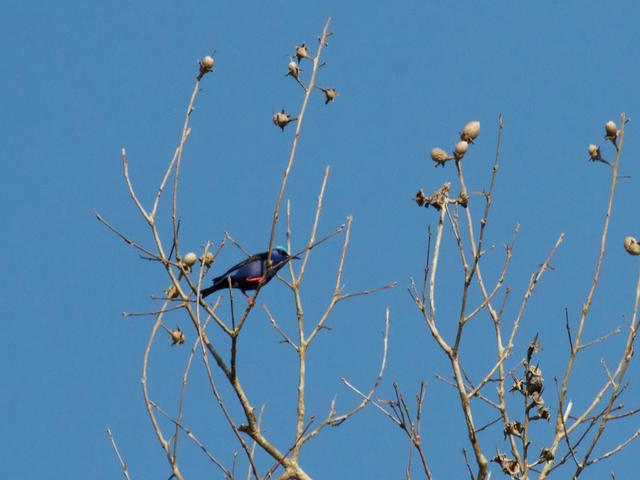bird: (202, 240, 301, 305)
